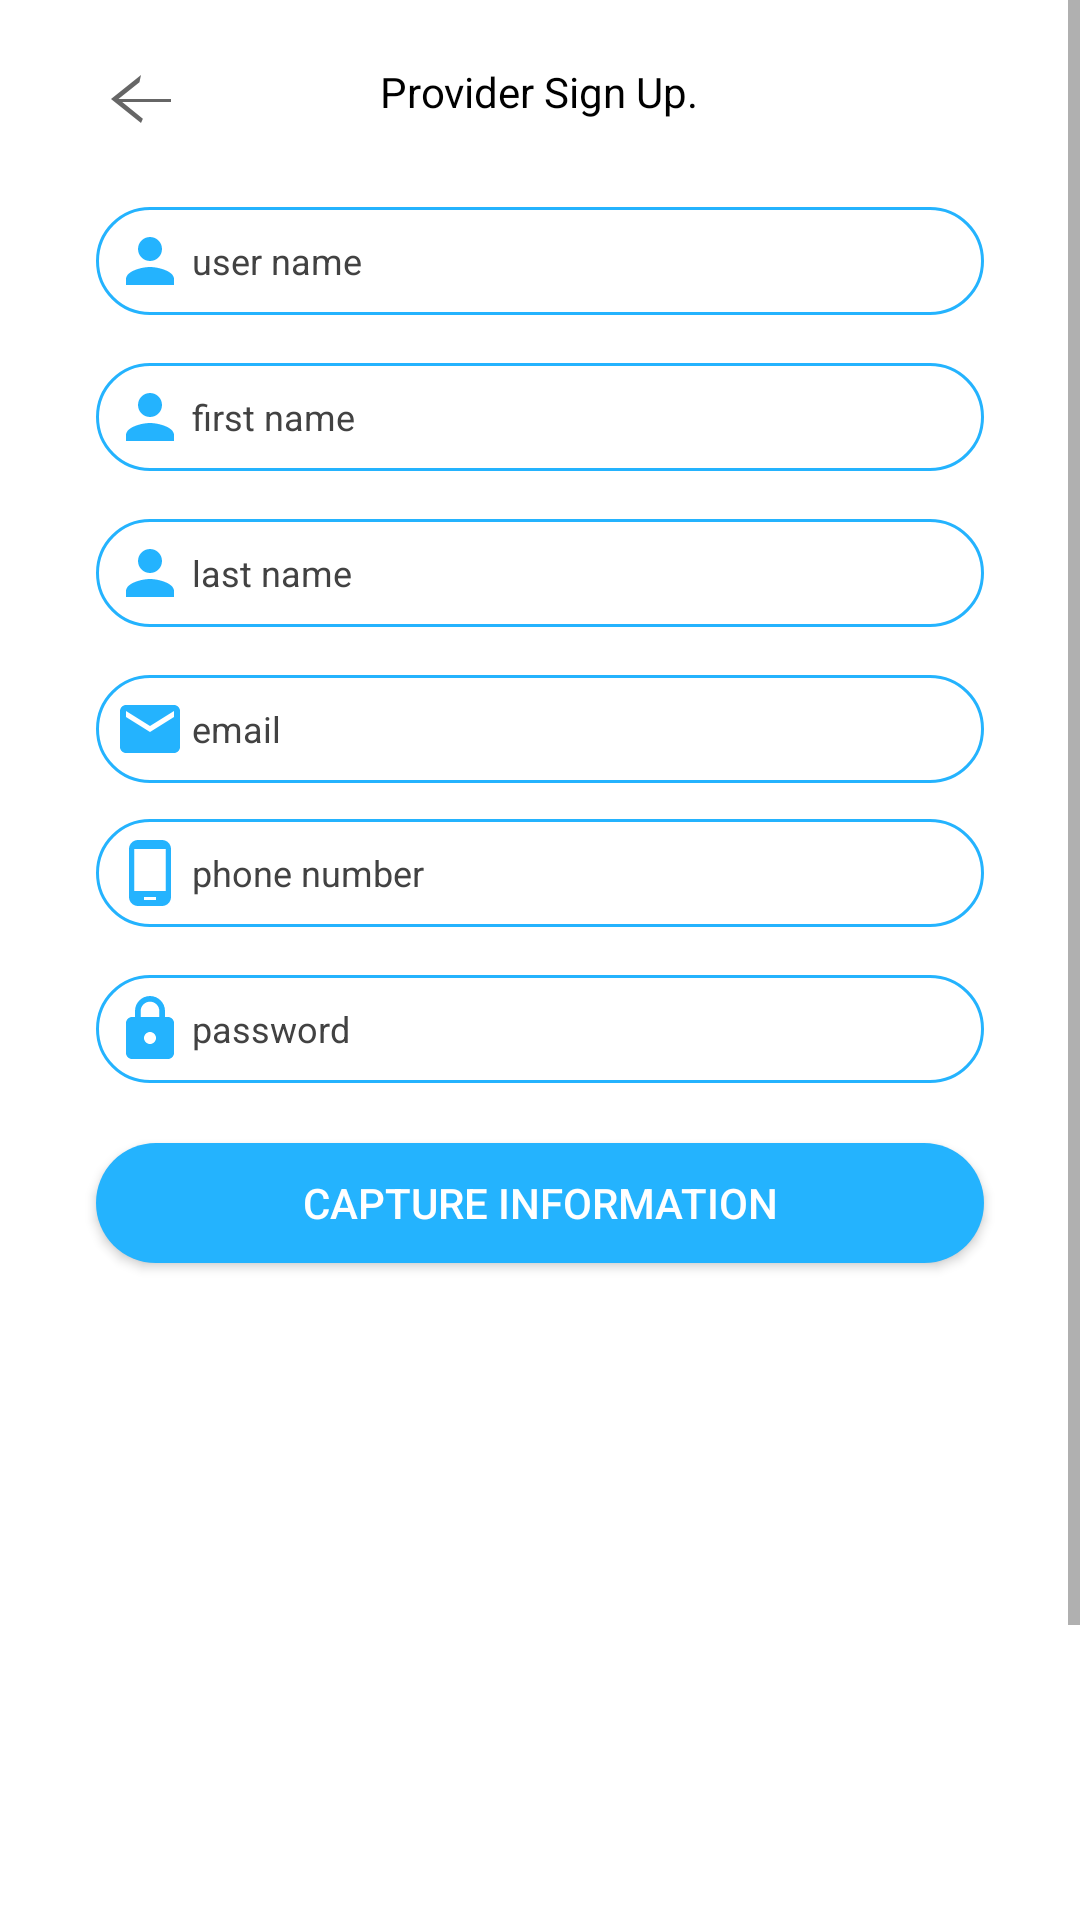

Where to tap for icons on this 1080 x 1920 app screen, as (x,y):
back arrow: (141,99)
